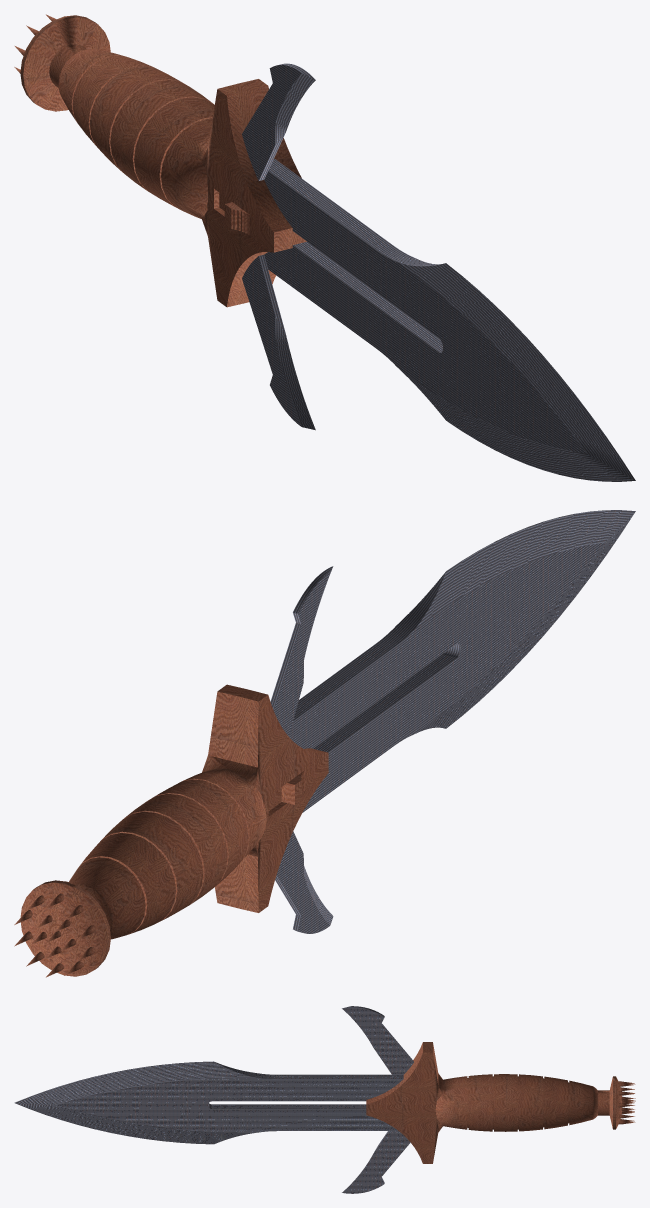
Rendered from model_align.obj.
3 renders of one model, top to bottom at view 1: azimuth 30°, elevation 25°; view 2: azimuth 150°, elevation 25°; view 3: azimuth 270°, elevation 25°, orthographic. The views are drawn at different scales.
Visible parts, largest first — view 1: mesh5_mesh5-geometry, mesh9_mesh9-geometry, mesh1_mesh1-geometry, mesh3_mesh3-geometry; view 2: mesh9_mesh9-geometry, mesh5_mesh5-geometry, mesh3_mesh3-geometry, mesh1_mesh1-geometry; view 3: mesh5_mesh5-geometry, mesh9_mesh9-geometry, mesh3_mesh3-geometry, mesh1_mesh1-geometry.
Part boxes in pixels (x1=…): mesh5_mesh5-geometry: x1=264, y1=158, x2=635, y2=481; mesh9_mesh9-geometry: x1=20, y1=15, x2=306, y2=307; mesh1_mesh1-geometry: x1=242, y1=254, x2=315, y2=430; mesh3_mesh3-geometry: x1=242, y1=63, x2=315, y2=180; mesh9_mesh9-geometry: x1=20, y1=684, x2=328, y2=976; mesh5_mesh5-geometry: x1=289, y1=510, x2=635, y2=812; mesh3_mesh3-geometry: x1=270, y1=566, x2=333, y2=736; mesh1_mesh1-geometry: x1=275, y1=831, x2=333, y2=933; mesh5_mesh5-geometry: x1=14, y1=1061, x2=403, y2=1144; mesh9_mesh9-geometry: x1=366, y1=1042, x2=621, y2=1163; mesh3_mesh3-geometry: x1=342, y1=1006, x2=413, y2=1074; mesh1_mesh1-geometry: x1=342, y1=1131, x2=410, y2=1193.
Size of the model in its own units: 0.019 by 0.0674 by 0.204.
